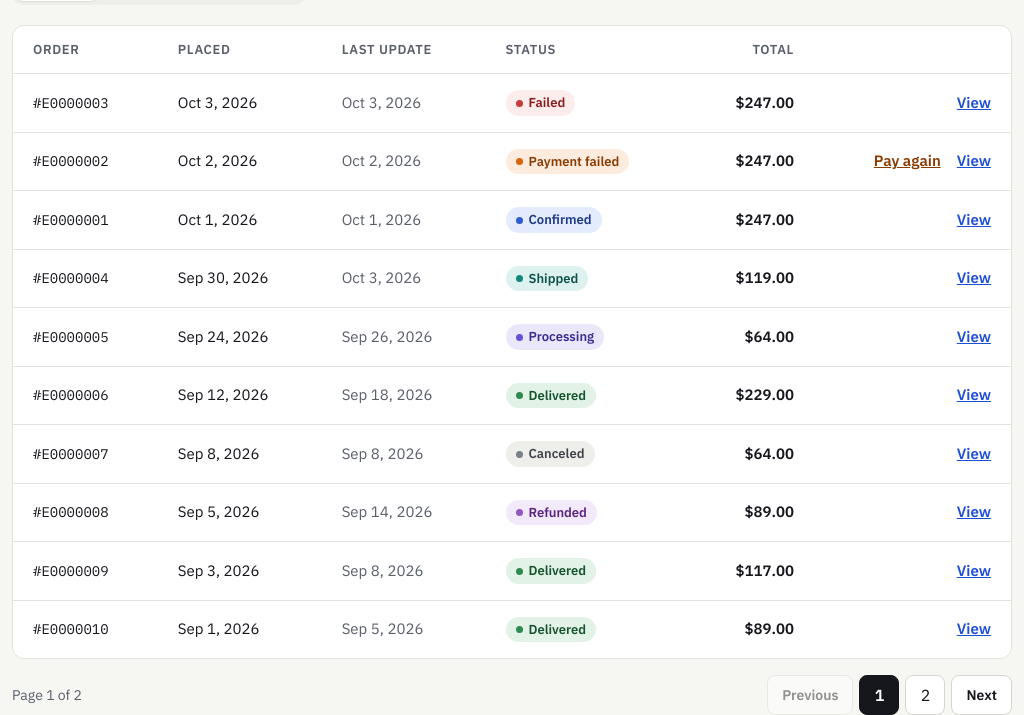
Test case: OrdersPage › pages through the orders
(page scrolled)
What coordinates should you click on to do the following:
click the button "Next"
I would click on:
 (982, 695)
Its box is left=952, top=675, right=1012, bottom=714.
(page scrolled)
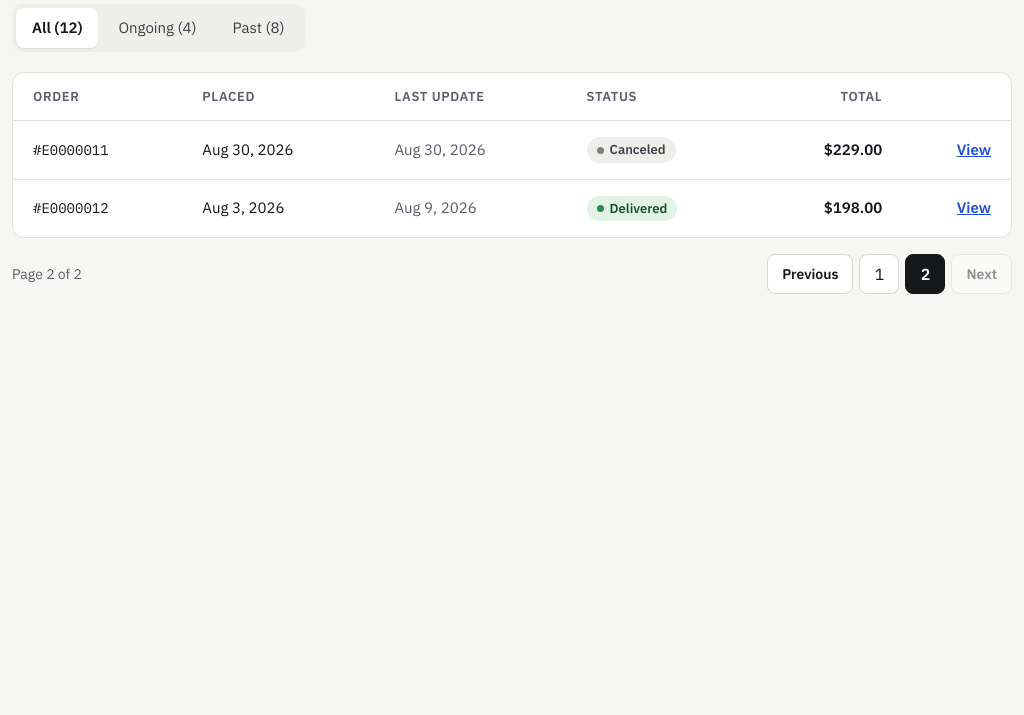
Expected: the text "#E0000012" is shown, left=13, top=179, right=182, bottom=237
